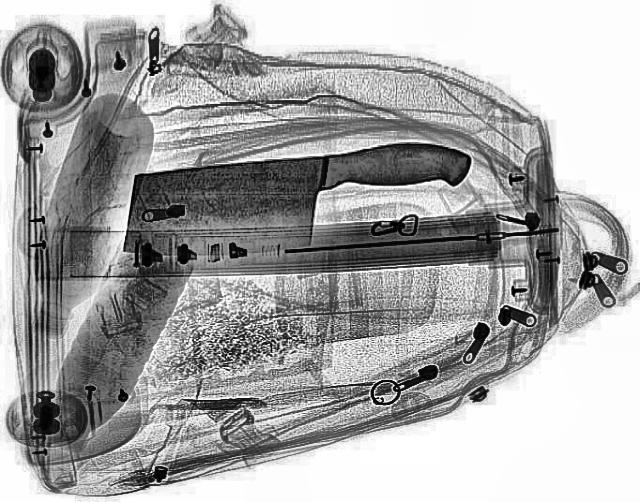Knife: (107, 138, 483, 266)
